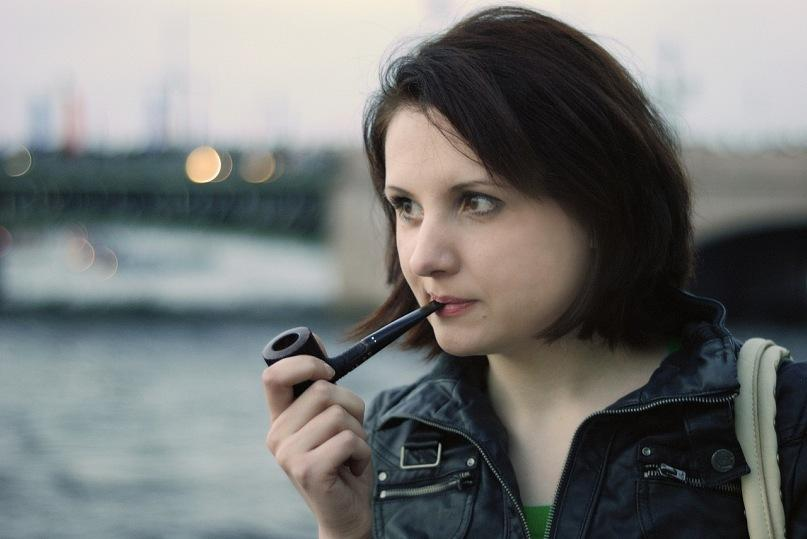trubka: (263, 300, 446, 398)
